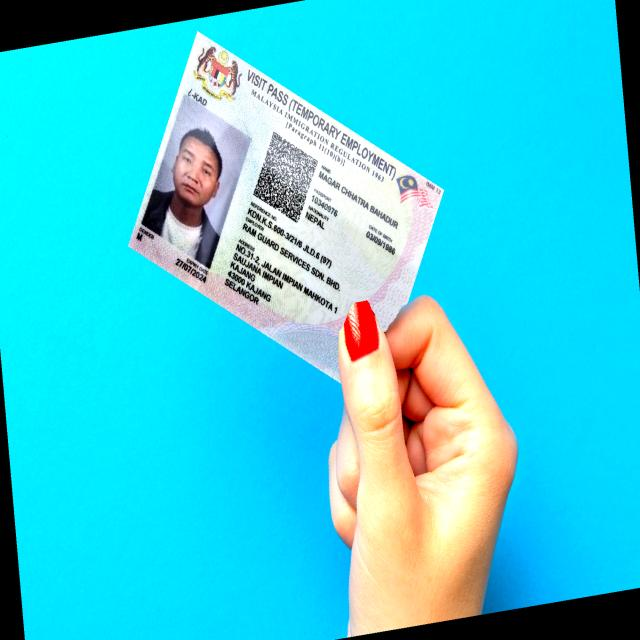ikad-temp: (128, 29, 444, 386)
